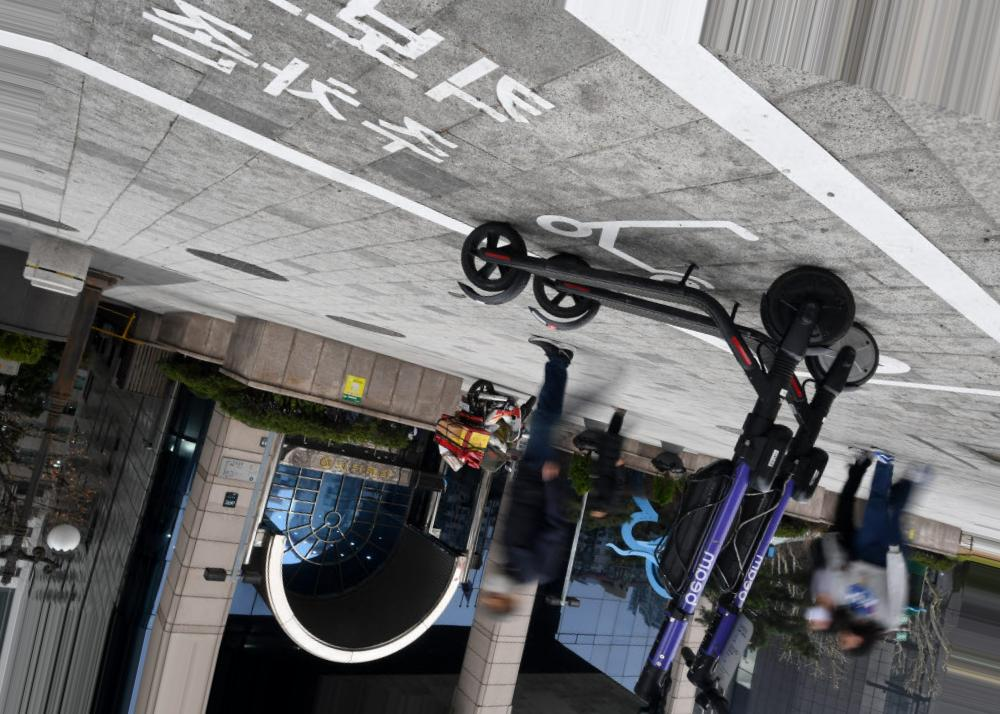scooter: (458, 222, 855, 714), (528, 251, 880, 714)
